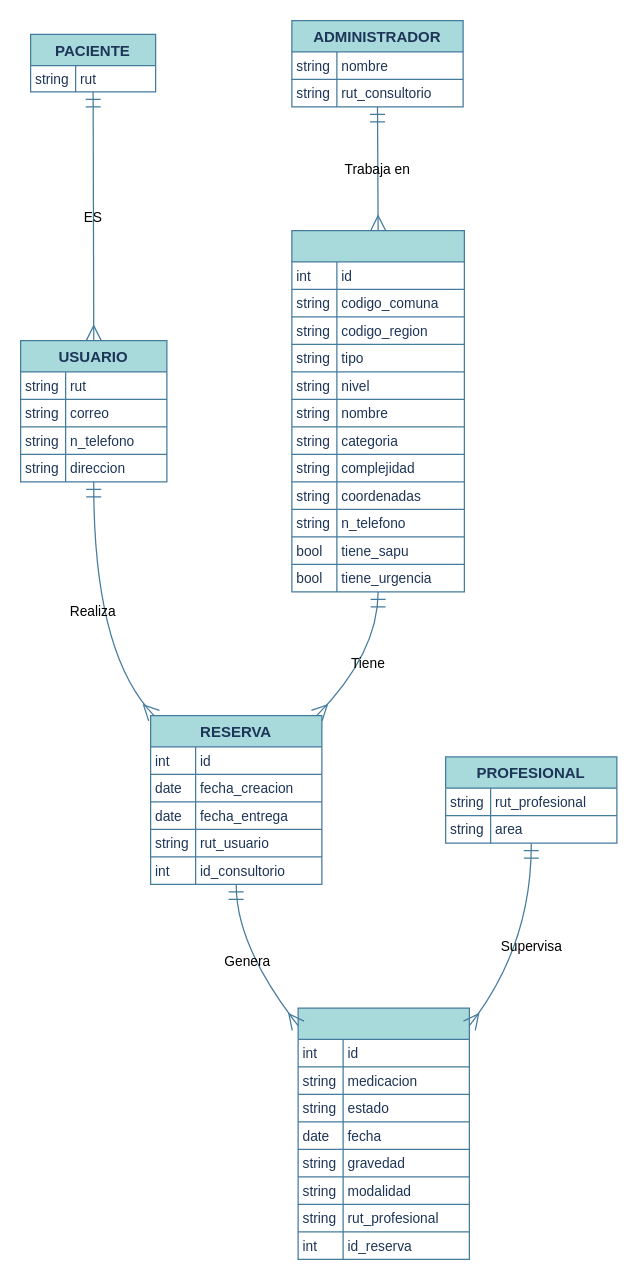
Some shapes in this 638 by 1280 pixel diagram are drawn without their labels. Each missing label, with the box of its shape:
ATENCION: (297, 1007, 469, 1259)
CONSULTORIO: (291, 229, 464, 592)
